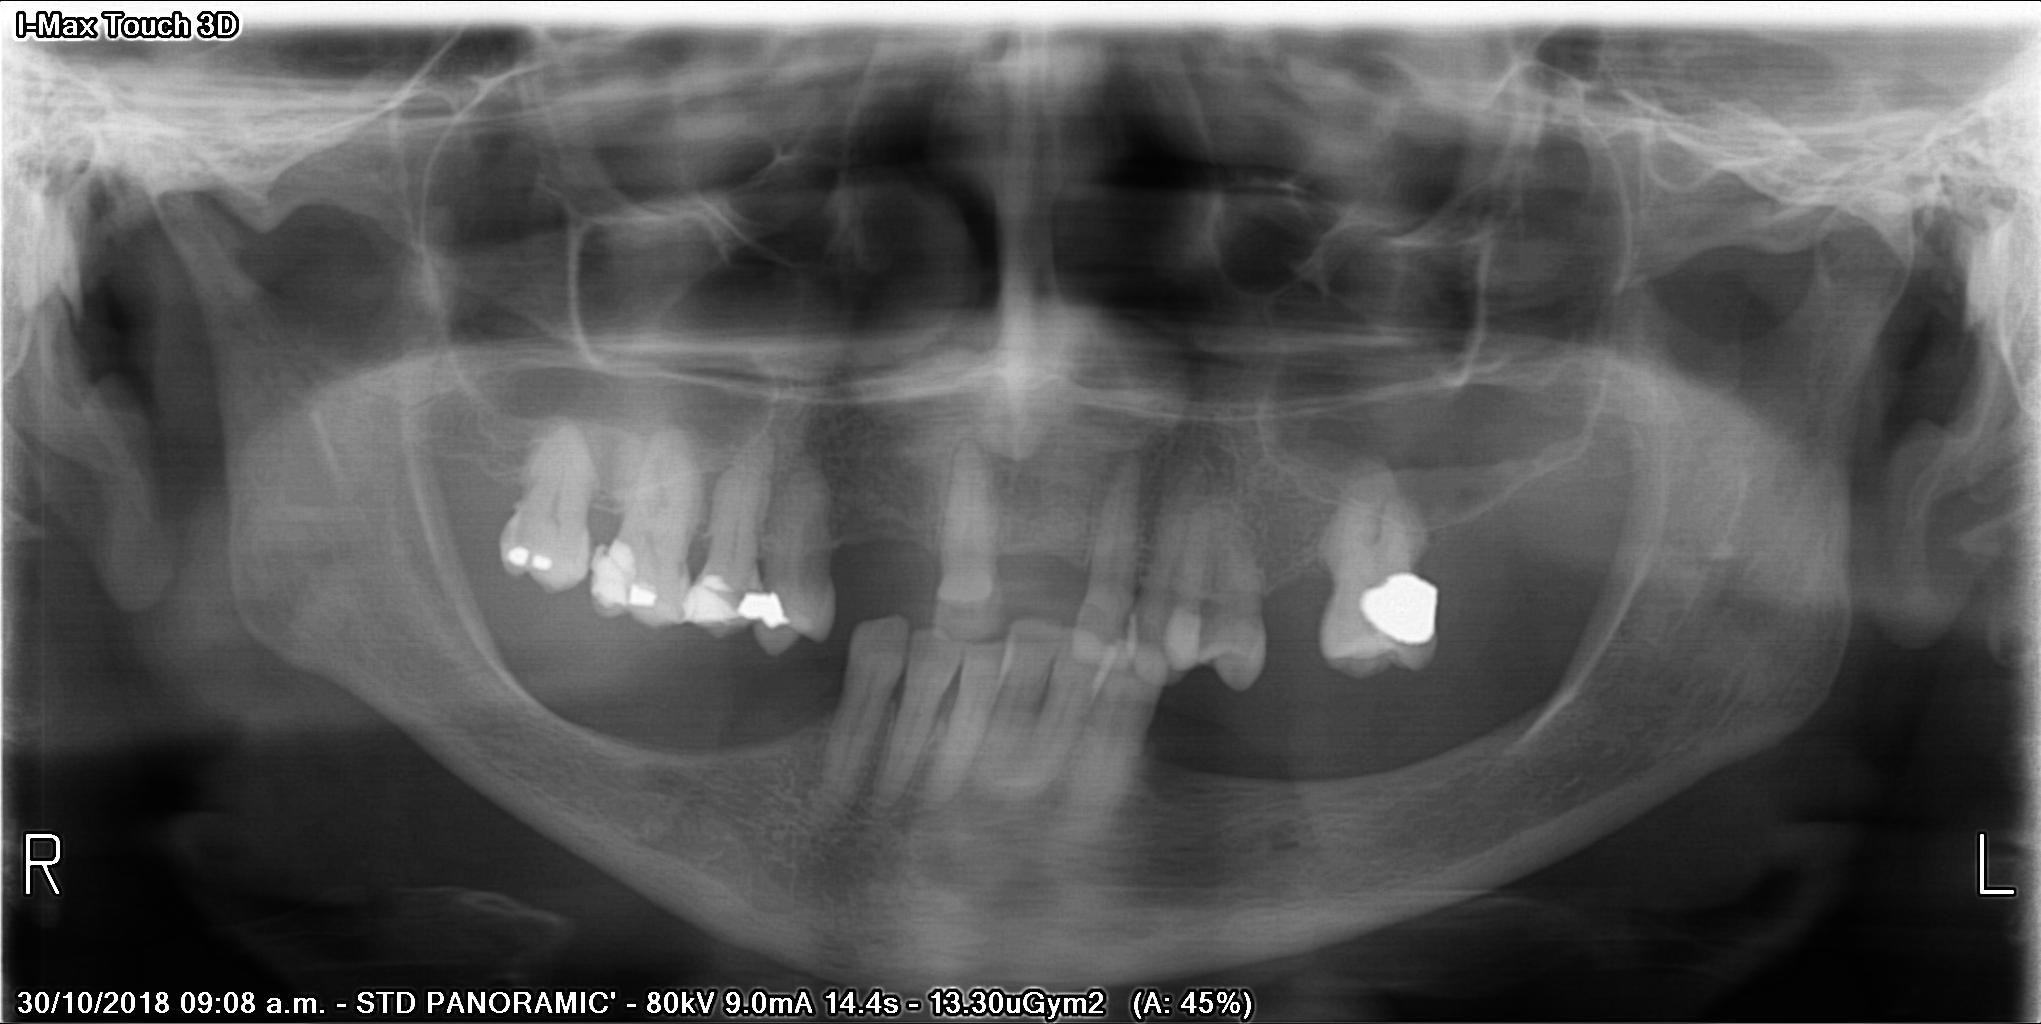Çürük: (1354, 556, 1444, 652), (592, 537, 668, 619), (732, 574, 790, 640), (684, 566, 737, 638), (497, 537, 562, 583)
